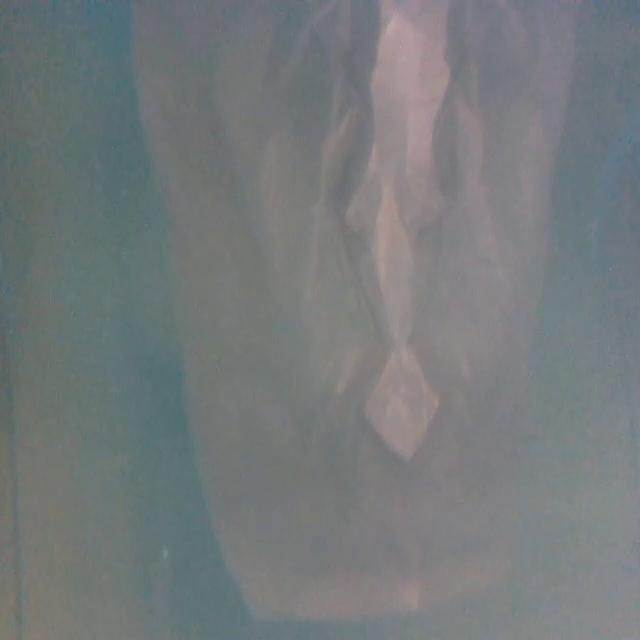plastic bags: (126, 0, 589, 640)
